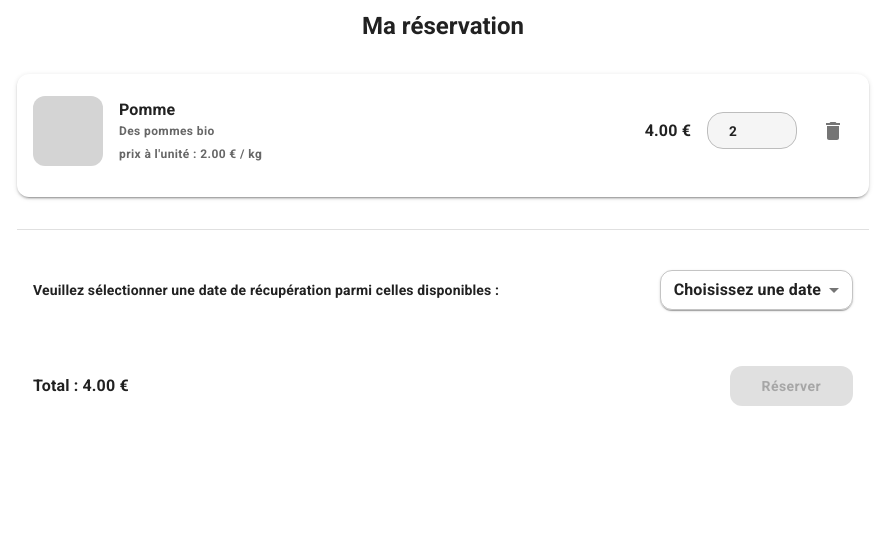
Scenario: ReservationPage › displays 4 available dates in the select
Press the mouse on the dropdown "Choisissez une date" at (747, 290), box [674,280,821,300]
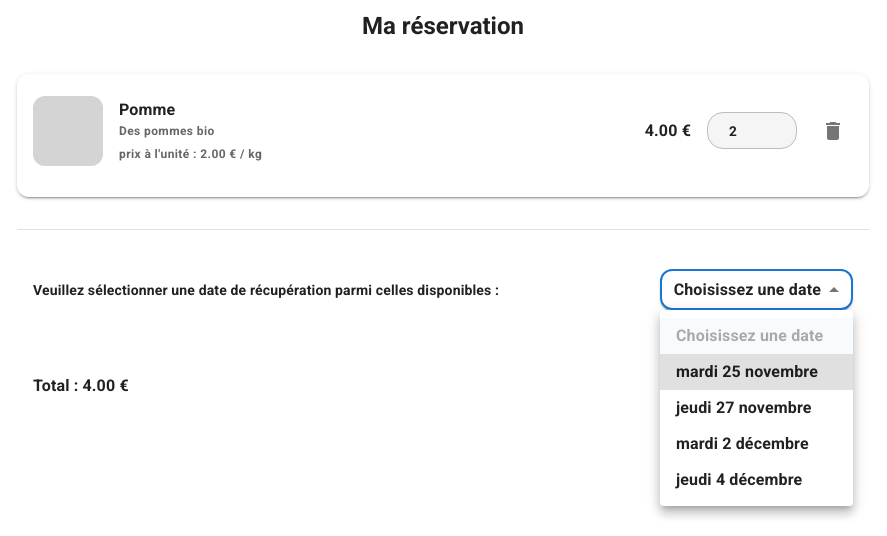
Now the number of options is 5, box [660,318,853,354]; [660,354,853,390]; [676,398,812,417]; [676,434,809,453]; [676,470,802,489]
